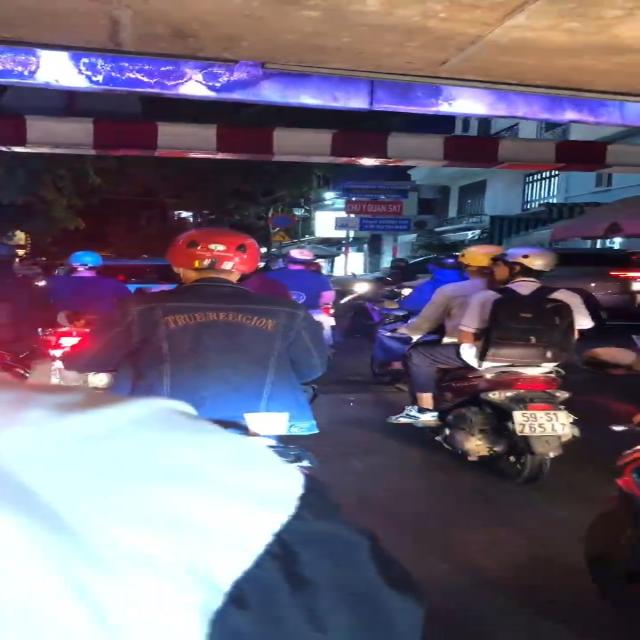Bien bao cho ngoat nguy hiem: (268, 230, 297, 242)
